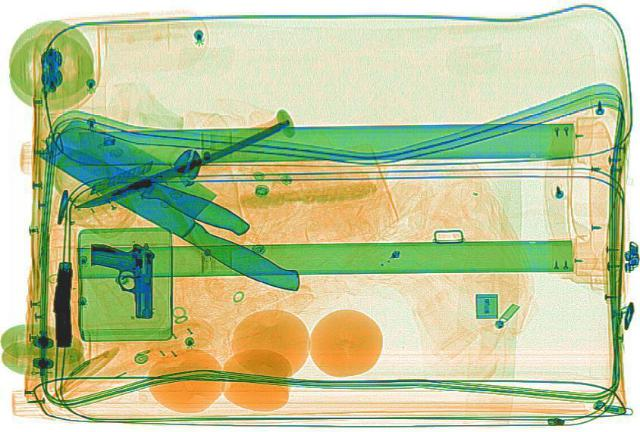Gun: (89, 241, 155, 317), (48, 260, 76, 345)
Knife: (19, 112, 341, 296), (31, 126, 257, 238), (66, 118, 296, 212)
